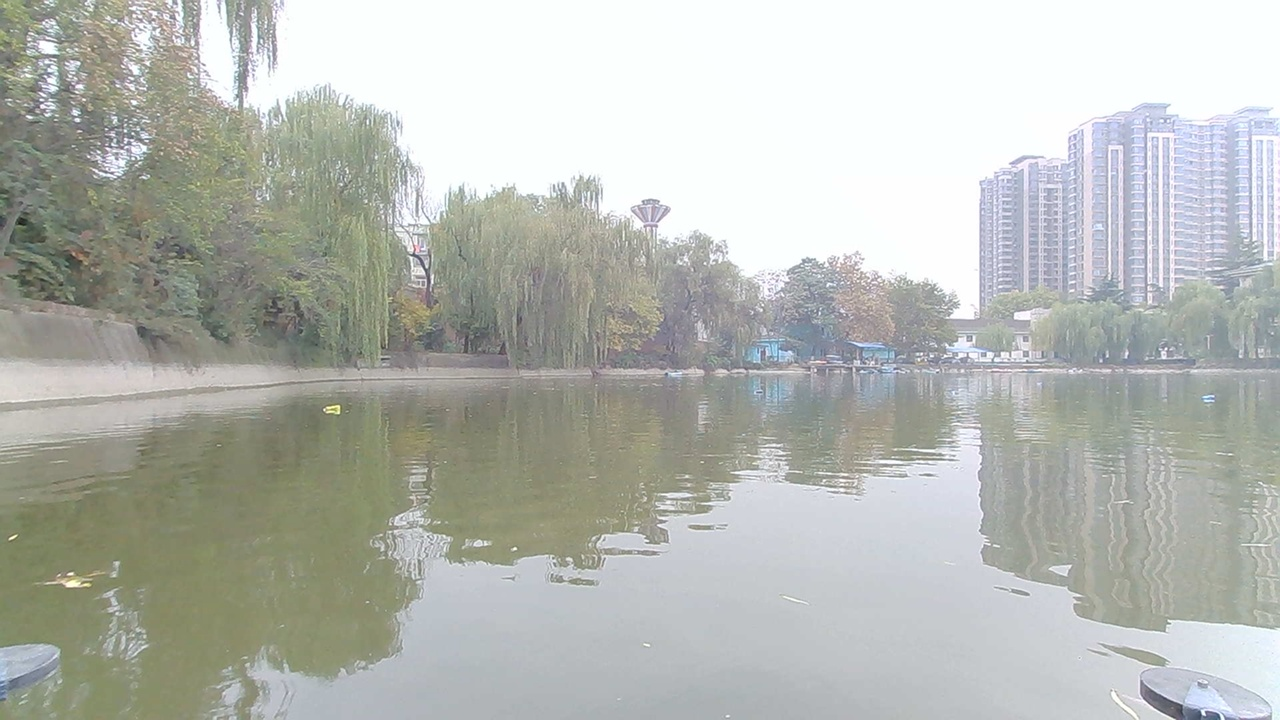bottle: (318, 397, 352, 420), (1199, 390, 1230, 413), (750, 387, 779, 402)
